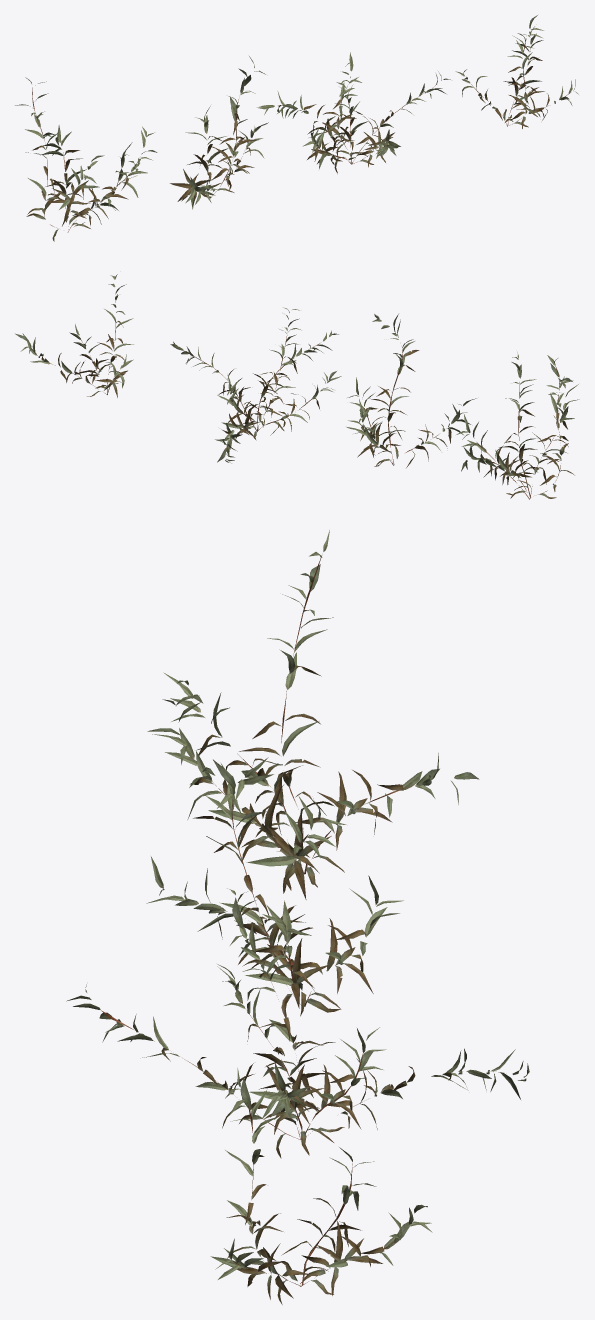
The model's file is scene-shrub.glb.
The picture shows the model from 3 angles, top to bottom: view 1: azimuth 30°, elevation 25°; view 2: azimuth 150°, elevation 25°; view 3: azimuth 270°, elevation 25°; orthographic projection. The views are drawn at different scales.
Parts seen in each view (by area): view 1: shrub_02_a; view 2: shrub_02_a; view 3: shrub_02_a.
Boxes of the visible parts, bbox=[...] form: shrub_02_a: bbox=[15, 15, 578, 241]; shrub_02_a: bbox=[15, 274, 579, 499]; shrub_02_a: bbox=[66, 530, 529, 1304].
Bounding box in the file's own units: 6.05 × 1.7 × 2.28.
1 material, 1 textured.
